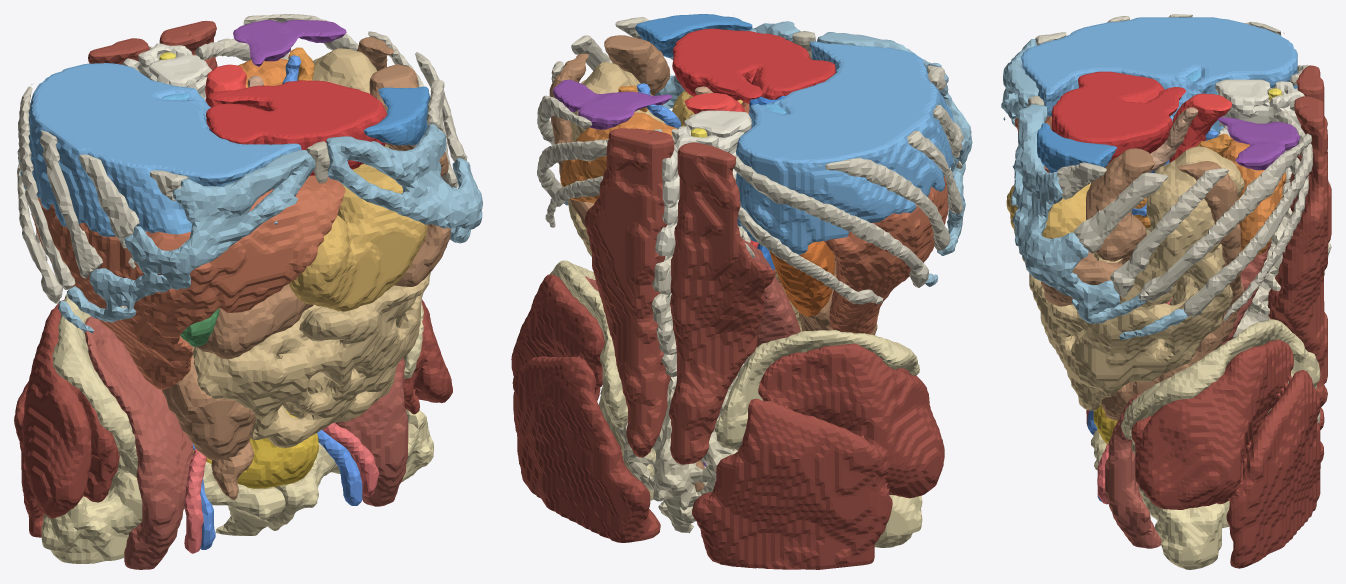
File: abdome.glb
3 renders of one model, left to right at view 1: azimuth 30°, elevation 25°; view 2: azimuth 150°, elevation 25°; view 3: azimuth 270°, elevation 25°, orthographic. The views are drawn at different scales.
Visible parts, largest first — view 1: structure_14, structure_34, structure_7, structure_1, structure_42, structure_43, structure_33, structure_8, structure_4, structure_39, structure_19, structure_40 (+11 smaller); view 2: structure_43, structure_41, structure_14, structure_33, structure_39, structure_19, structure_1, structure_31, structure_8, structure_29, structure_34, structure_3 (+9 smaller); view 3: structure_43, structure_7, structure_14, structure_33, structure_34, structure_41, structure_8, structure_19, structure_39, structure_42, structure_40, structure_29 (+10 smaller).
Part boxes in pixels (x1,y1,x2,y2): structure_14: [19, 63, 301, 236]; structure_34: [58, 124, 482, 333]; structure_7: [193, 48, 430, 447]; structure_1: [31, 175, 345, 389]; structure_42: [84, 316, 408, 569]; structure_43: [14, 299, 452, 537]; structure_33: [17, 14, 467, 308]; structure_8: [162, 37, 451, 499]; structure_4: [289, 164, 427, 311]; structure_39: [52, 293, 423, 535]; structure_19: [206, 80, 387, 175]; structure_40: [41, 409, 433, 563]; structure_43: [511, 274, 944, 569]; structure_41: [584, 128, 775, 464]; structure_14: [736, 41, 953, 254]; structure_33: [537, 17, 963, 304]; structure_39: [549, 260, 919, 500]; structure_19: [672, 28, 835, 103]; structure_1: [741, 102, 948, 334]; structure_31: [617, 361, 746, 533]; structure_8: [549, 35, 877, 491]; structure_29: [655, 110, 751, 256]; structure_34: [564, 14, 972, 286]; structure_3: [553, 79, 672, 129]; structure_43: [1131, 339, 1324, 568]; structure_7: [1029, 146, 1244, 410]; structure_14: [1020, 17, 1297, 140]; structure_33: [1035, 14, 1312, 321]; structure_34: [1001, 39, 1188, 339]; structure_41: [1268, 65, 1331, 407]; structure_8: [1041, 148, 1255, 437]; structure_19: [1052, 71, 1185, 167]; structure_39: [1091, 319, 1320, 528]; structure_42: [1105, 240, 1271, 548]; structure_40: [1139, 487, 1224, 569]; structure_29: [1215, 79, 1330, 186].
Bounding box in the file's own units: 345 × 343 × 262.
